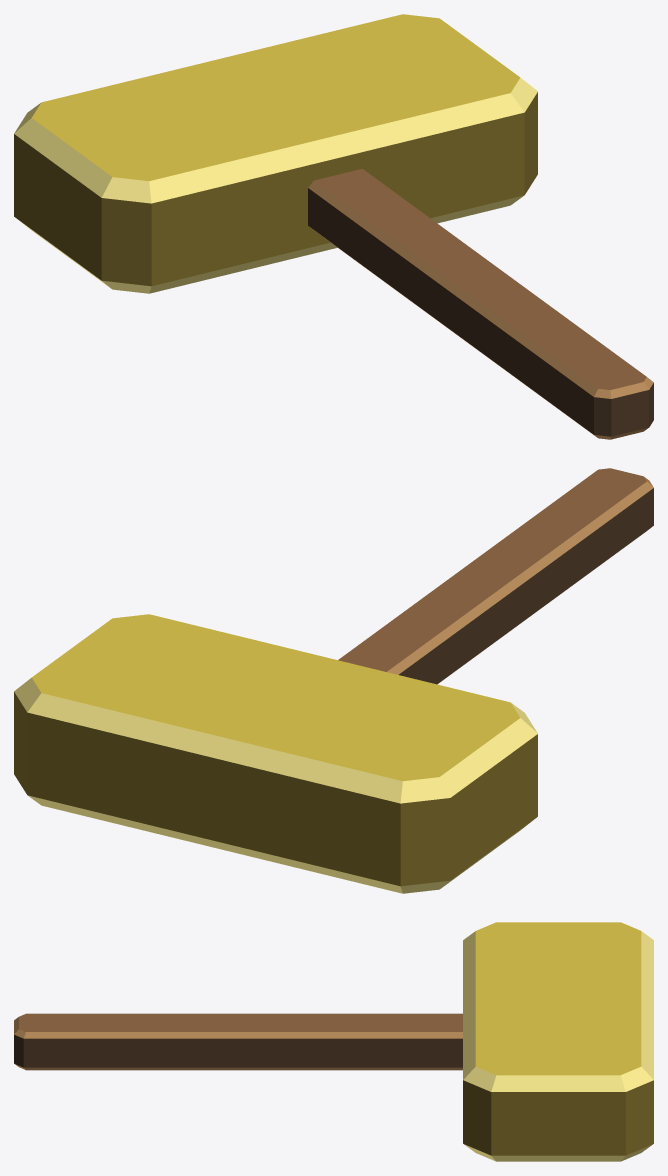
The model's file is gold_hammer.fbx.
3 views of the same model, one above another, from view 1: azimuth 30°, elevation 25°; view 2: azimuth 150°, elevation 25°; view 3: azimuth 270°, elevation 25° (orthographic). The views are drawn at different scales.
Parts seen in each view (by area): view 1: gold_hammer; view 2: gold_hammer; view 3: gold_hammer.
Part boxes in pixels (bbox=[...]): gold_hammer: bbox=[14, 14, 653, 439]; gold_hammer: bbox=[14, 468, 653, 893]; gold_hammer: bbox=[14, 922, 653, 1161].
Size of the model in its own units: 1.38 by 0.34 by 2.28.
Materials: 1 (1 with a texture image).
